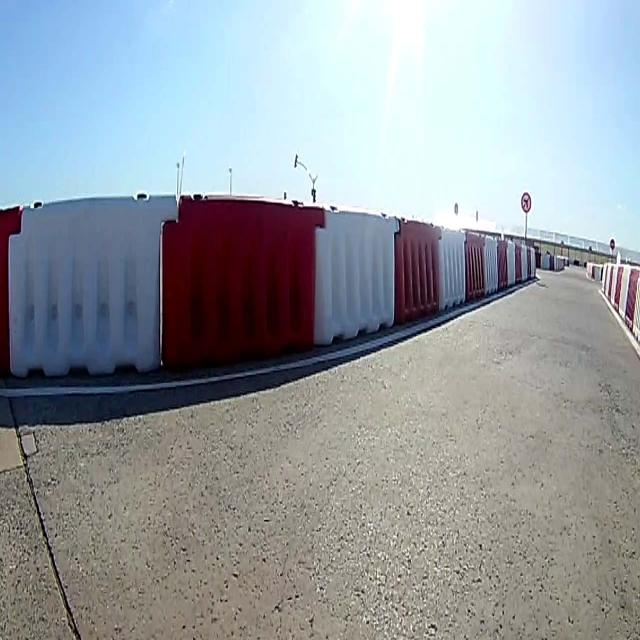soladonulmez: (522, 192, 532, 212)
